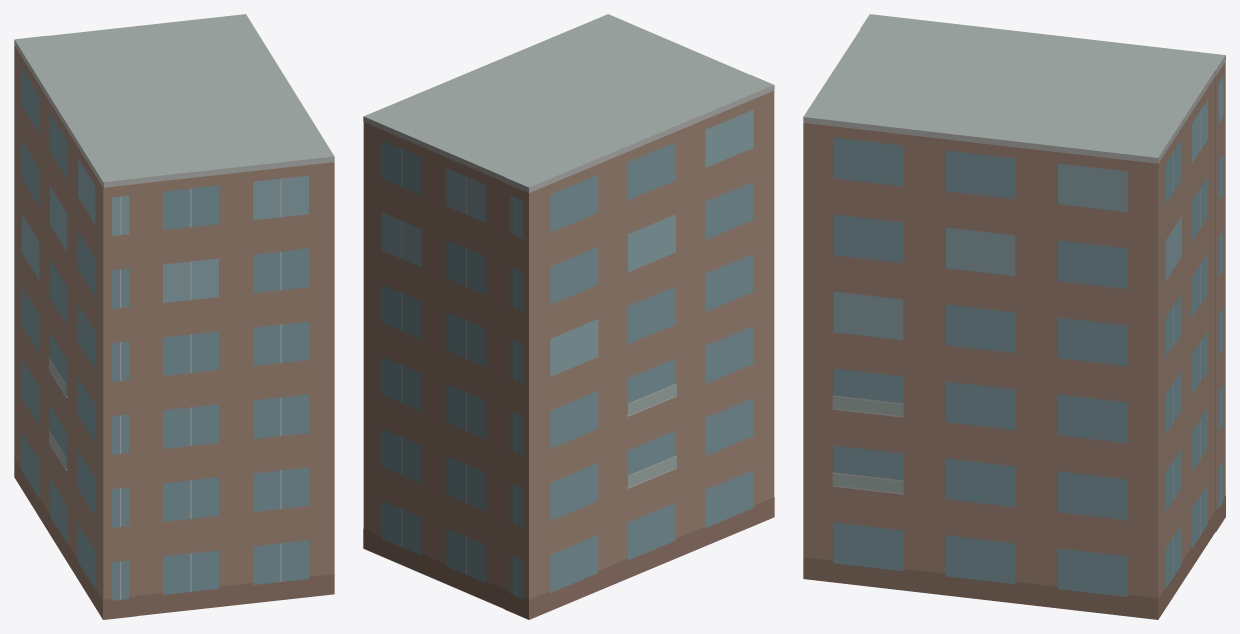
File: survey-upis-32953263.glb
The picture shows the model from 3 angles, left to right: view 1: azimuth 30°, elevation 25°; view 2: azimuth 150°, elevation 25°; view 3: azimuth 270°, elevation 25°; orthographic projection. The views are drawn at different scales.
Parts seen in each view (by area): view 1: survey-upis-32953263.tmp; view 2: survey-upis-32953263.tmp; view 3: survey-upis-32953263.tmp.
Part boxes in pixels (bbox=[...]): survey-upis-32953263.tmp: bbox=[14, 14, 334, 619]; survey-upis-32953263.tmp: bbox=[363, 14, 774, 619]; survey-upis-32953263.tmp: bbox=[803, 14, 1225, 619].
Size of the model in its own units: 12.77 by 19.1 by 15.84.
